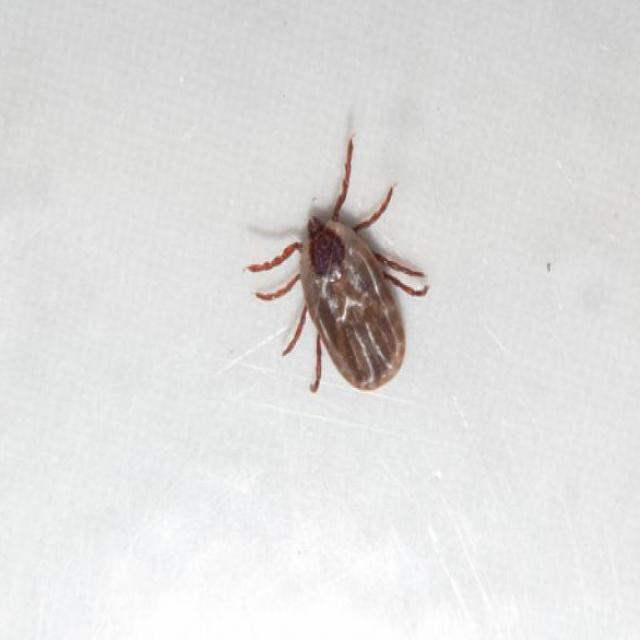Rhipicephalus Sanguineus-F-Fed: (246, 138, 427, 393)
